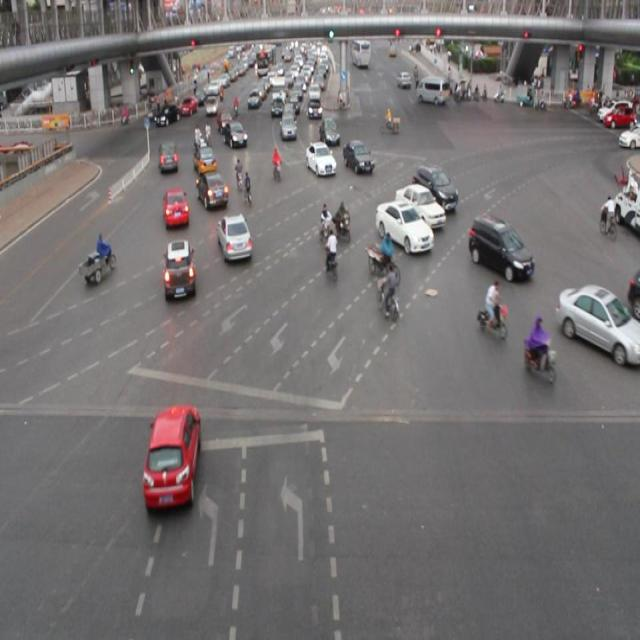car: (142, 404, 200, 510), (557, 283, 640, 356), (468, 216, 532, 277), (376, 202, 431, 253), (394, 182, 444, 229), (412, 160, 457, 210), (163, 238, 196, 301), (216, 213, 251, 261), (341, 138, 374, 174), (163, 187, 190, 230), (304, 142, 336, 177), (196, 172, 226, 208), (192, 141, 217, 175), (158, 139, 179, 173)
